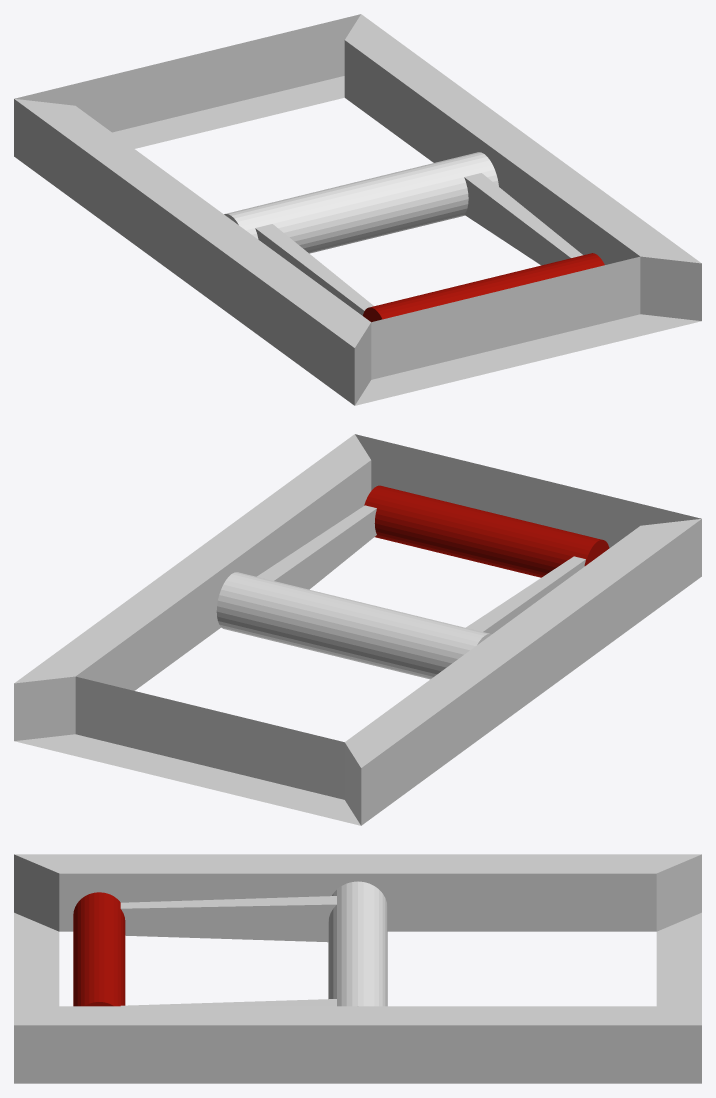
File: lever.glb
3 views of the same model, one above another, from view 1: azimuth 30°, elevation 25°; view 2: azimuth 150°, elevation 25°; view 3: azimuth 270°, elevation 25° (orthographic).
Parts seen in each view (by area): view 1: Cube.001, Cylinder, Cube, Cylinder.001; view 2: Cube.001, Cylinder, Cylinder.001, Cube; view 3: Cube.001, Cube, Cylinder, Cylinder.001.
Part boxes in pixels (box(x1,y1,x2,y2)): Cube.001: box(14, 14, 701, 405); Cylinder: box(224, 152, 498, 253); Cube: box(255, 173, 582, 315); Cylinder.001: box(363, 253, 604, 322); Cube.001: box(14, 434, 701, 825); Cylinder: box(216, 572, 491, 679); Cylinder.001: box(364, 485, 609, 577); Cube: box(257, 505, 585, 633); Cube.001: box(14, 854, 701, 1083); Cube: box(120, 896, 336, 1006); Cylinder: box(328, 881, 387, 1006); Cylinder.001: box(73, 892, 125, 1006).
Size of the model in its own units: 2.74 by 0.4358 by 4.66.
